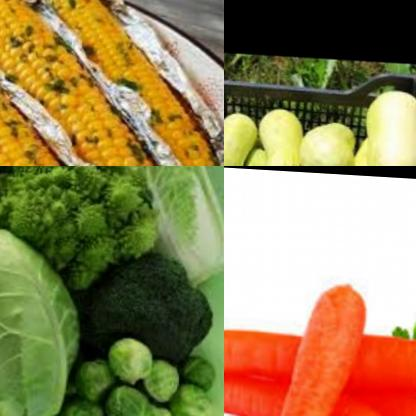broccoli: (69, 242, 224, 372)
brus capusta: (61, 329, 224, 416)
cabbage: (0, 206, 85, 416)
carrot: (267, 261, 372, 416), (224, 314, 416, 393), (224, 357, 416, 416), (224, 365, 396, 416)
corn: (27, 0, 224, 166), (0, 0, 183, 166), (0, 0, 143, 166)
salad: (66, 166, 224, 290)
vegetable marrow: (224, 72, 416, 166)
